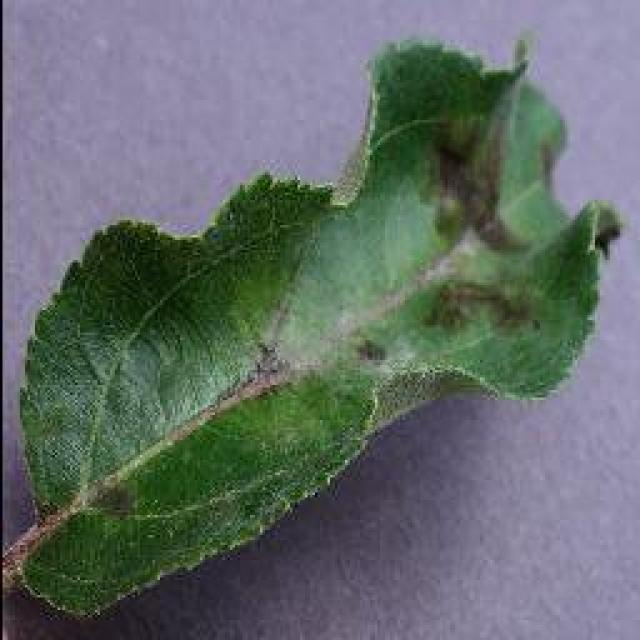apple scab disease: (2, 30, 622, 620)
